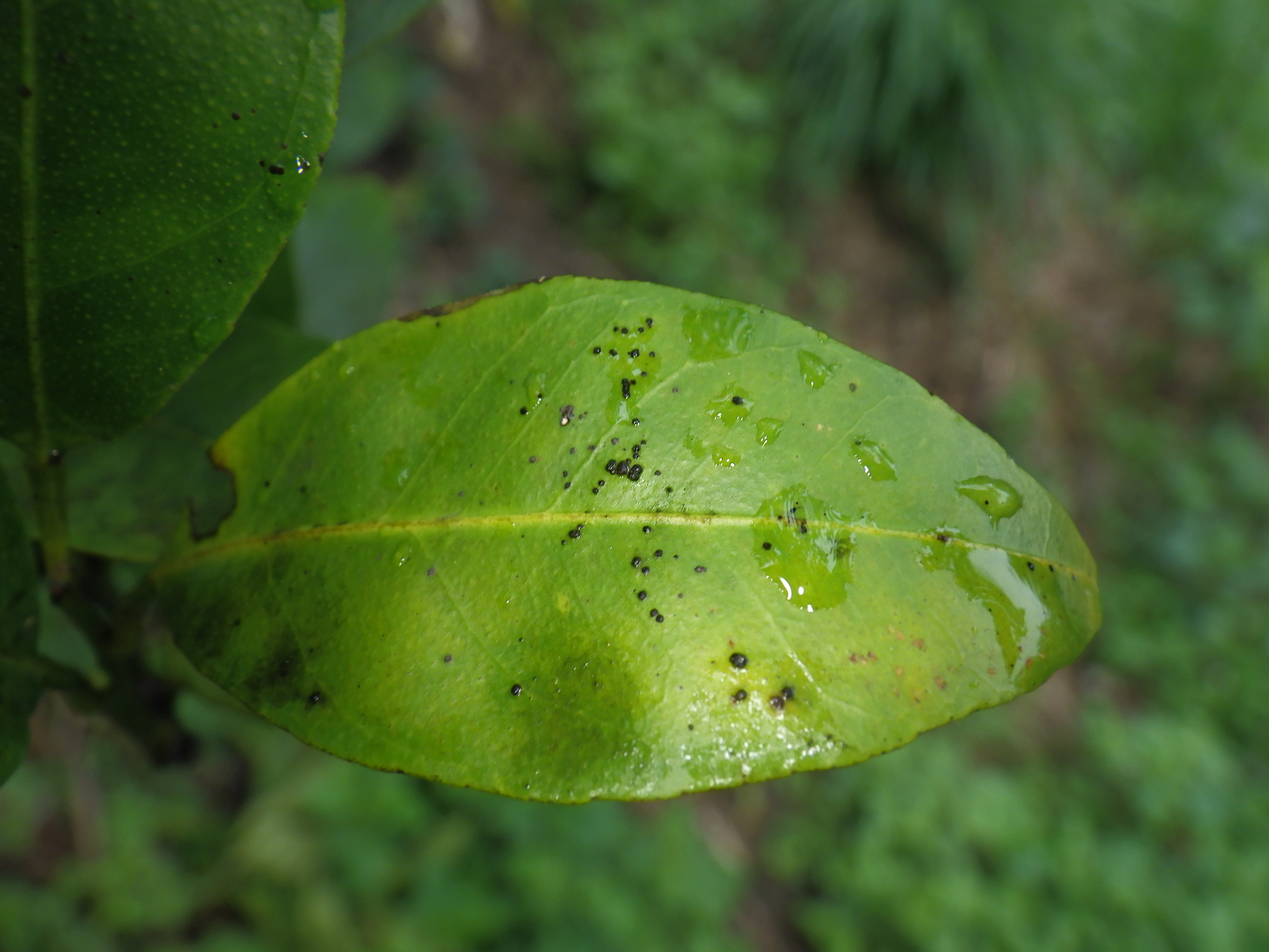Oily_Spot: (152, 278, 1100, 801)
